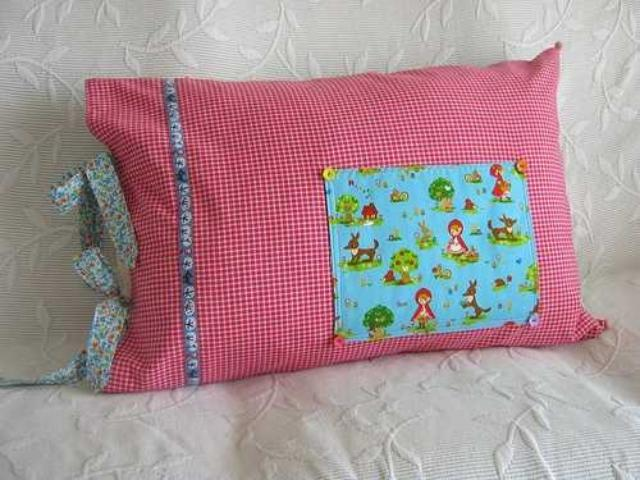pillow: (80, 40, 608, 394)
